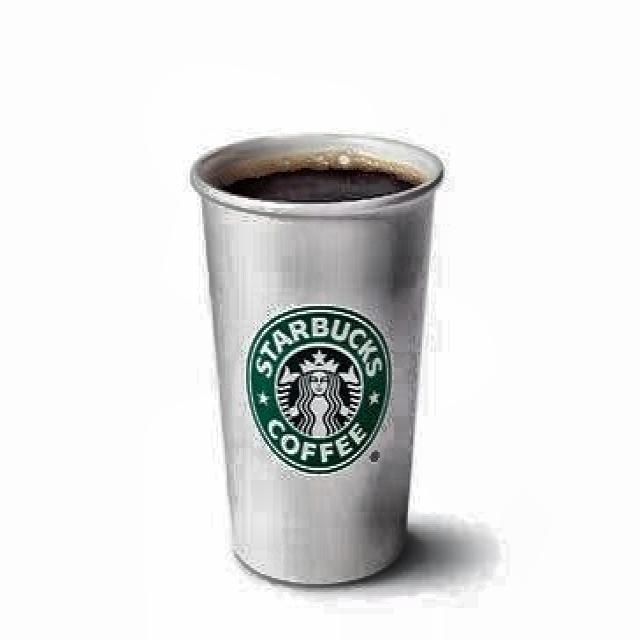Cup: (185, 119, 442, 603)
